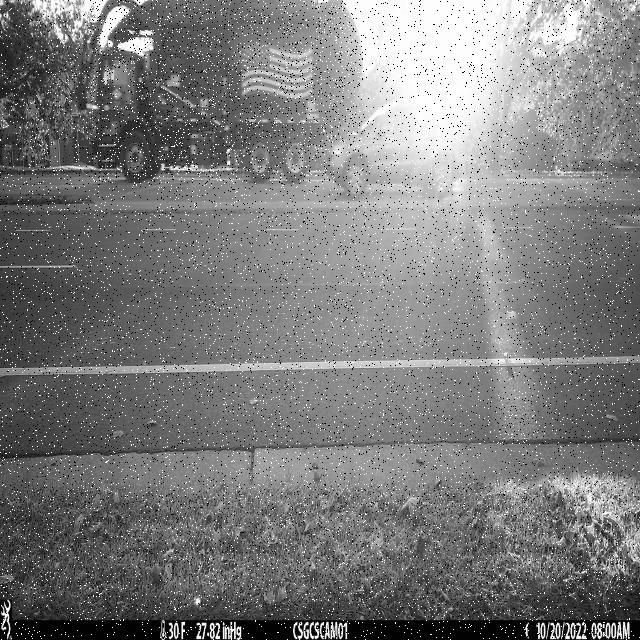Garbage Truck: (91, 0, 363, 184)
